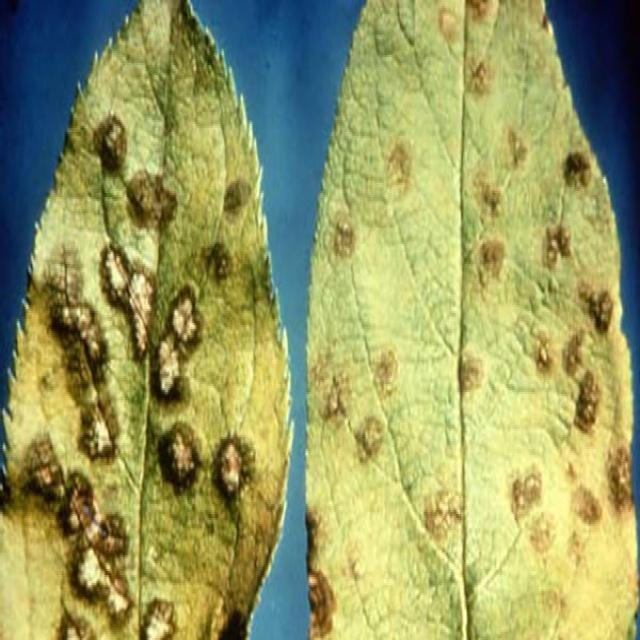shot_hole: (296, 0, 638, 640), (0, 0, 298, 640)
